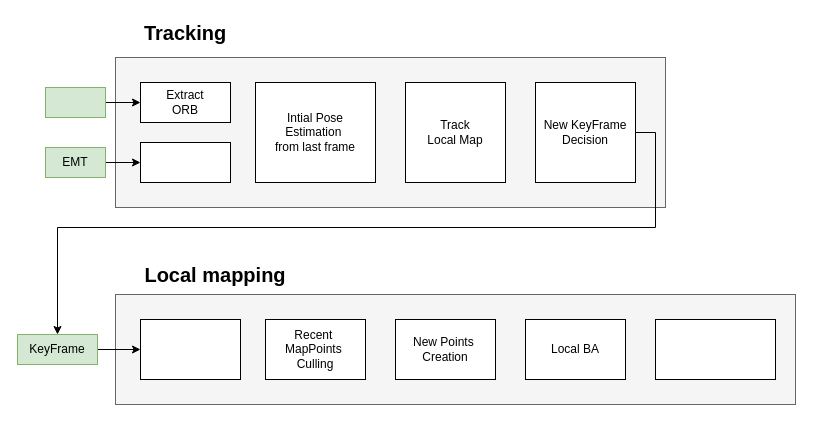
This 813x422 diagram has some shape labels left out. The centre of each missing label's shape, as x and y in pixels:
"EMT Interpolation" goes at point 185,162.
"Frame" goes at point 75,102.
"KeyFrame Insertion" goes at point 190,349.
"Local KeyFrames Culling" goes at point 715,349.
